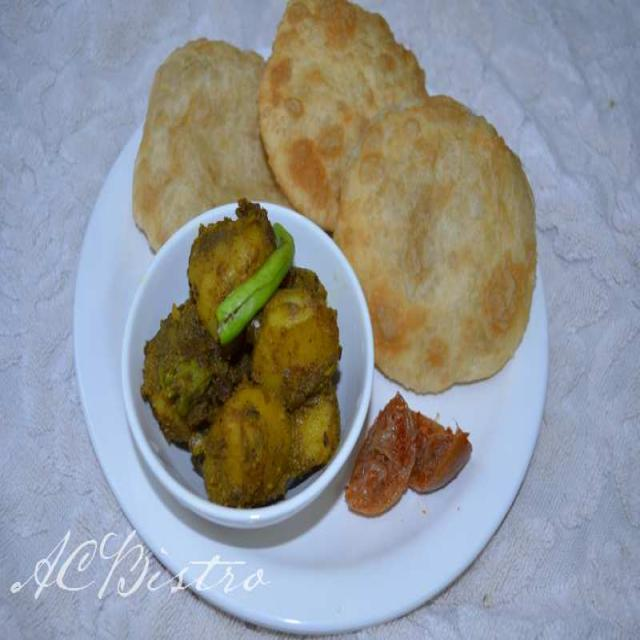CURRY: (140, 195, 344, 509)
PICKLE: (344, 390, 471, 521)
POORI: (129, 0, 537, 392)
